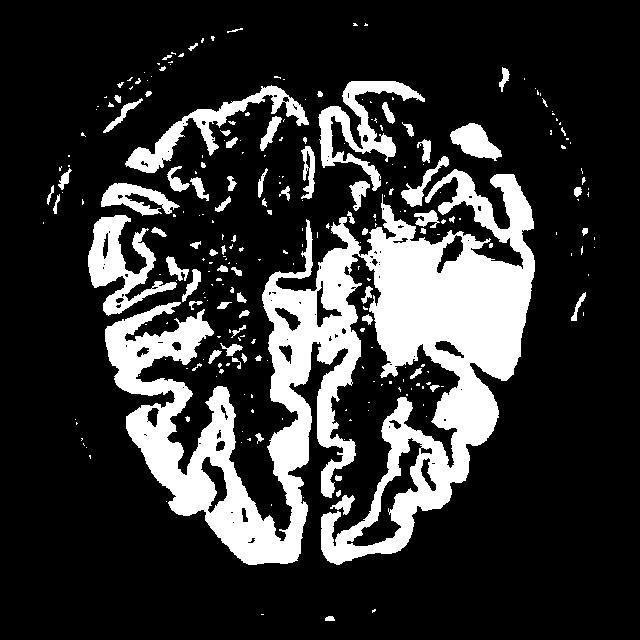Brain-Tumor: (366, 213, 546, 387)
